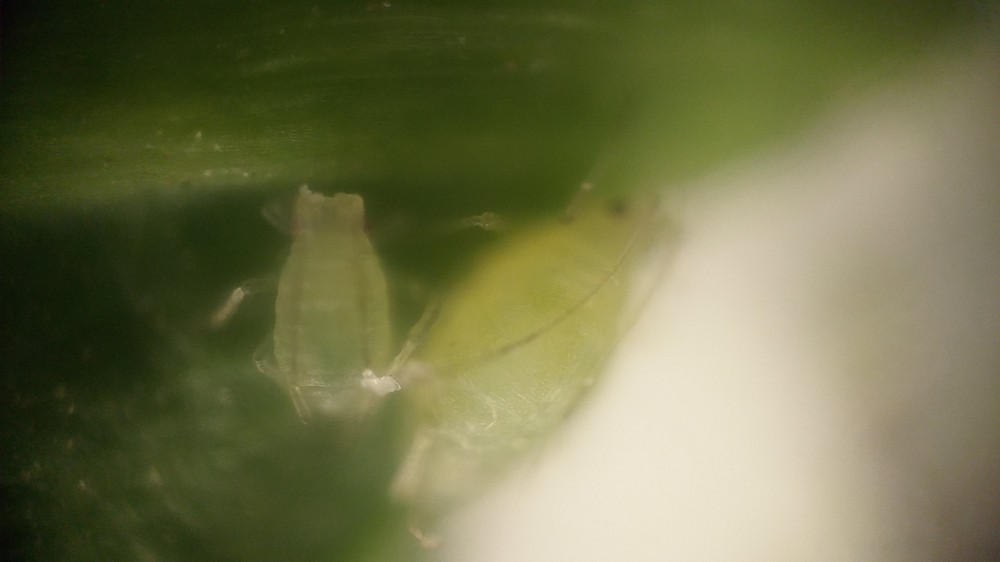Pulgon: (389, 133, 697, 549), (230, 172, 406, 434)
